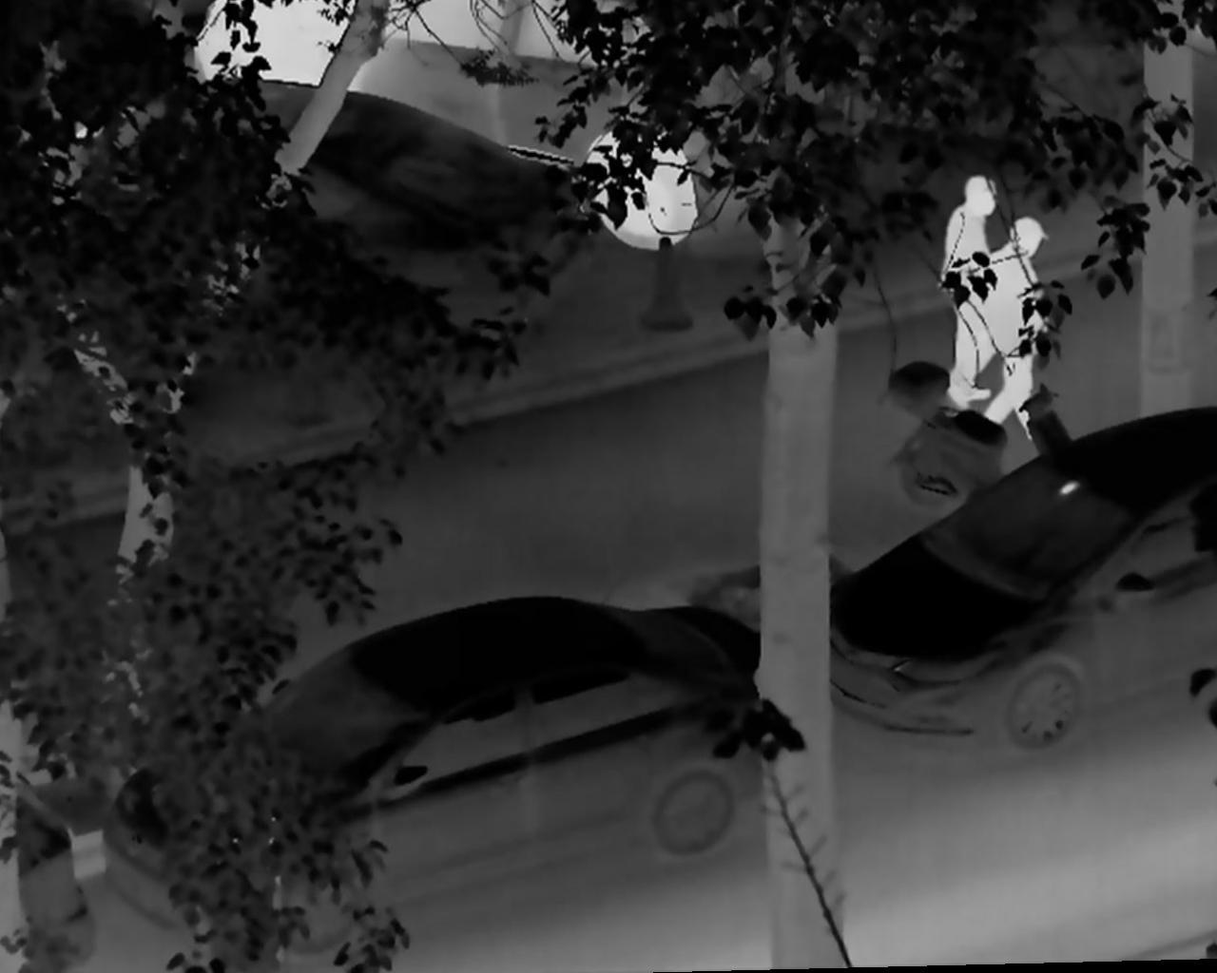person: (981, 214, 1052, 446), (938, 172, 1002, 417)
